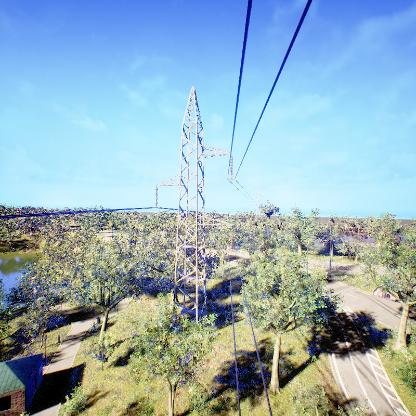tower: (150, 84, 236, 330)
